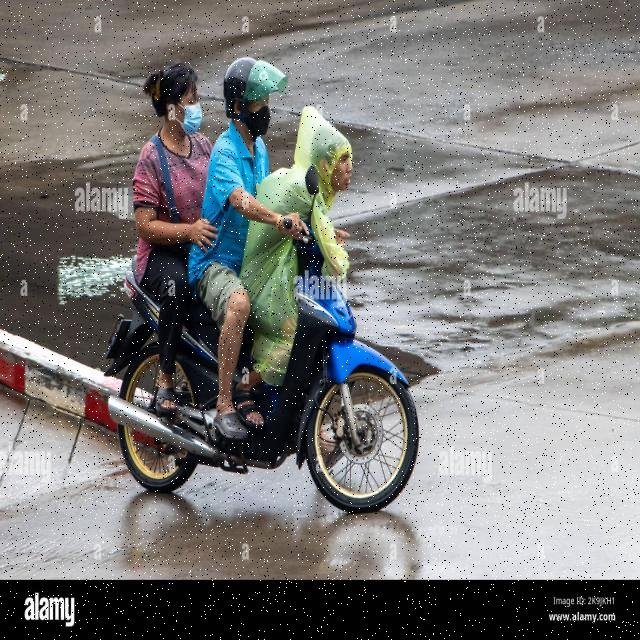Triple riding: (132, 41, 362, 354)
